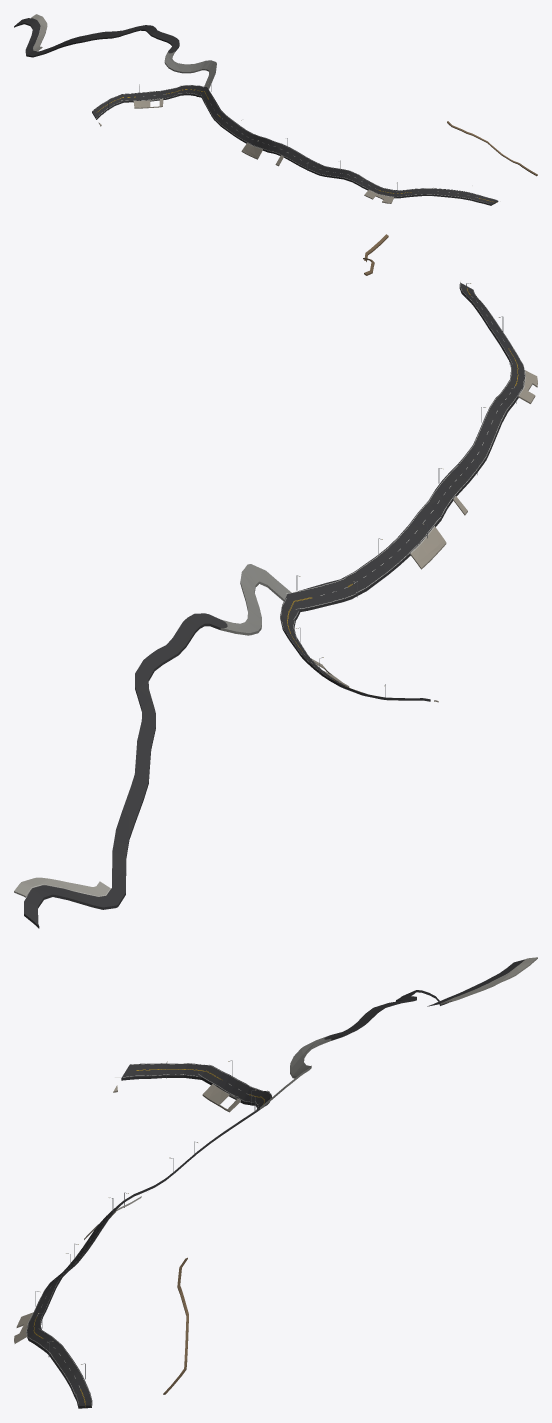
Rendered from 16-54708-29726.36eafdd0.glb.
3 views of the same model, one above another, from view 1: azimuth 30°, elevation 25°; view 2: azimuth 150°, elevation 25°; view 3: azimuth 330°, elevation 25° (orthographic). The views are drawn at different scales.
Size of the model in its own units: 223 by 93.08 by 585.
